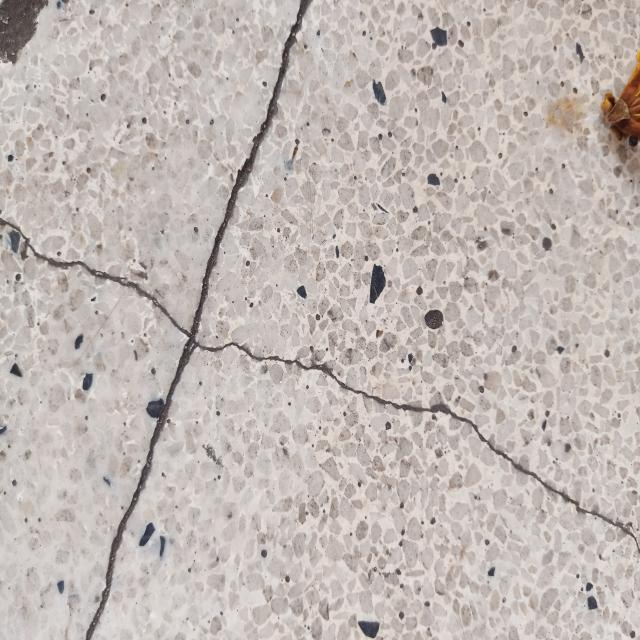branched cracks: (462, 420, 639, 547)
